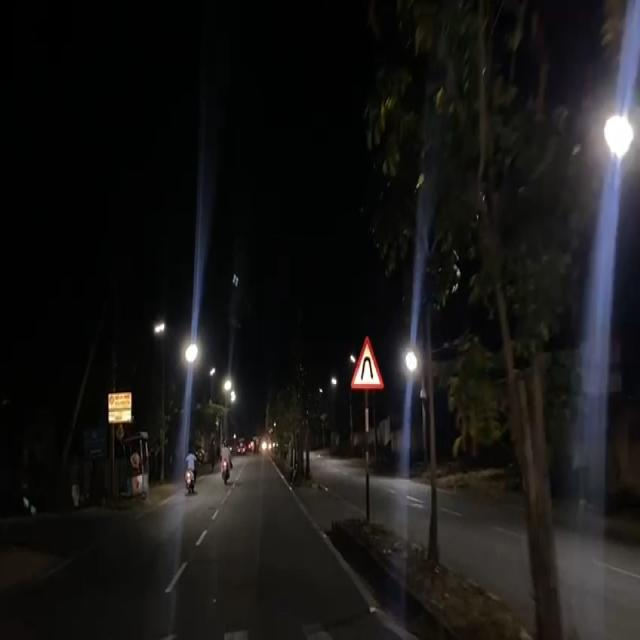bien_cam: (350, 333, 386, 393)
